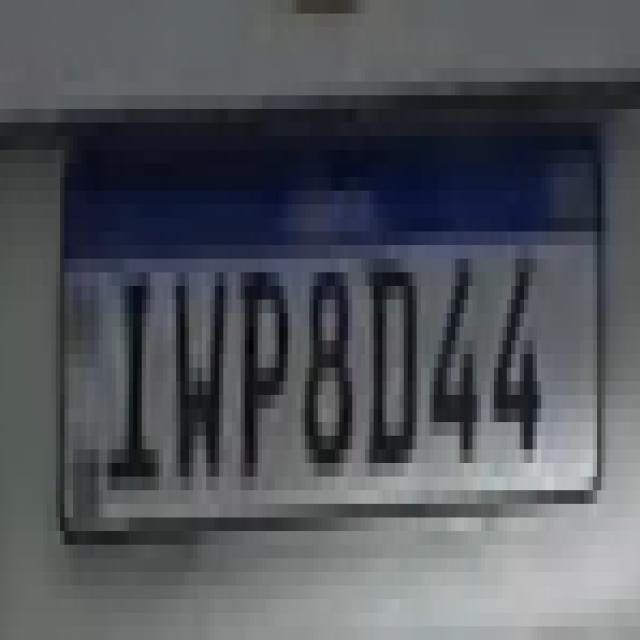Placa_mercosul_carro: (60, 123, 604, 542)
